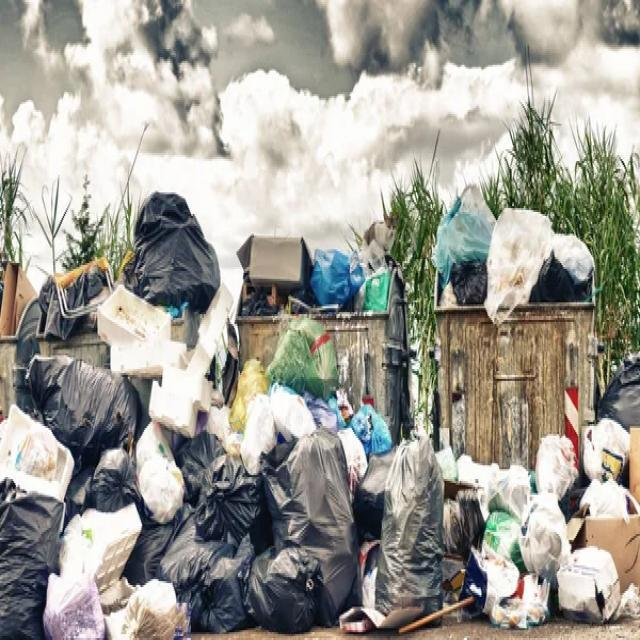garbage: (51, 283, 370, 639), (400, 382, 636, 624)
